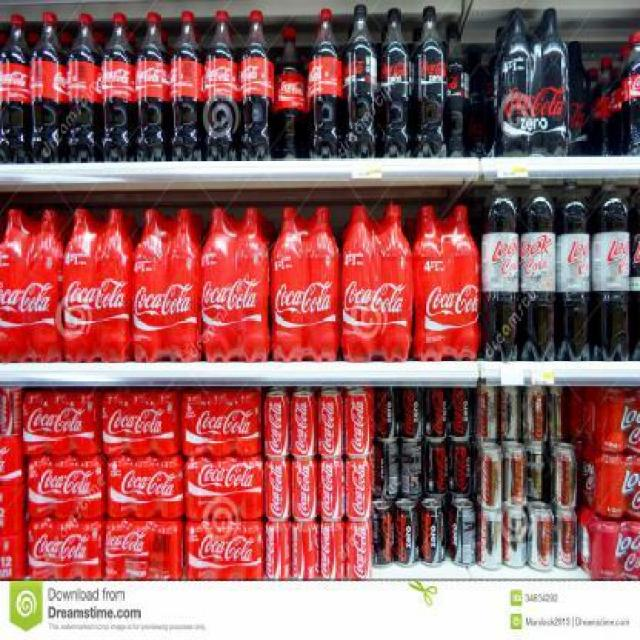Drinks: (341, 204, 413, 362), (271, 204, 340, 361), (63, 208, 132, 362), (133, 208, 201, 362), (201, 208, 268, 362), (414, 205, 480, 360), (0, 208, 62, 362), (179, 389, 261, 457), (308, 8, 344, 158), (66, 14, 102, 163), (238, 10, 274, 159), (31, 13, 66, 164), (535, 8, 570, 157), (344, 5, 378, 158), (412, 6, 446, 159), (23, 388, 100, 455), (136, 12, 170, 162), (378, 8, 412, 158), (102, 13, 136, 162), (169, 11, 203, 160), (204, 11, 238, 160), (502, 8, 536, 157), (103, 392, 180, 456), (185, 458, 264, 520), (105, 518, 183, 580), (26, 458, 105, 519), (106, 458, 185, 519), (184, 522, 264, 580), (0, 15, 31, 164), (27, 520, 105, 578), (274, 26, 308, 159), (527, 502, 555, 572), (449, 498, 476, 568), (263, 391, 291, 457), (290, 391, 318, 457), (317, 391, 345, 457), (550, 444, 578, 510), (420, 498, 446, 568), (317, 457, 345, 521), (344, 391, 371, 457), (264, 456, 291, 522), (475, 444, 503, 507), (344, 456, 371, 521), (395, 498, 420, 568), (476, 508, 504, 570), (291, 458, 318, 522), (372, 442, 401, 500), (503, 442, 528, 508), (371, 500, 395, 568), (264, 520, 291, 580), (319, 520, 346, 580), (292, 522, 319, 580), (345, 520, 372, 578), (522, 386, 548, 445), (525, 442, 550, 503), (398, 442, 424, 500), (474, 380, 498, 442), (554, 509, 578, 571), (504, 507, 528, 568), (424, 442, 450, 498), (450, 440, 475, 498), (400, 386, 425, 443), (375, 386, 399, 443), (449, 388, 474, 442), (425, 387, 449, 442), (500, 386, 522, 442), (0, 386, 23, 437), (548, 386, 569, 440)
